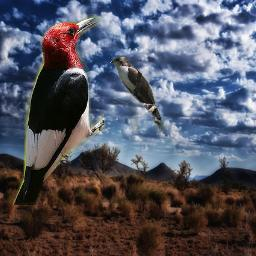Cuckoo: (110, 56, 168, 132)
Woodpecker: (10, 14, 104, 205)
